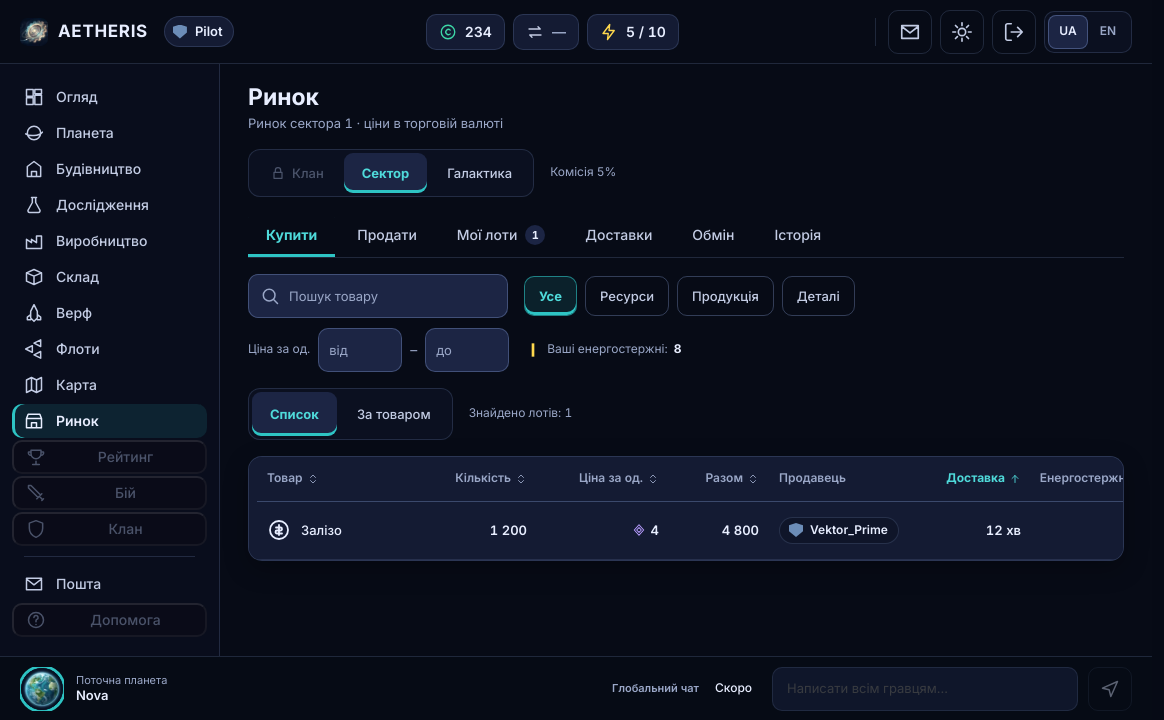
Scenario: the tab Sell › shows the range from the server and the counter of the lots, and lists the lot
Click the tab "Продати".
click(387, 235)  # box 339,213 -> 435,257
(page scrolled)
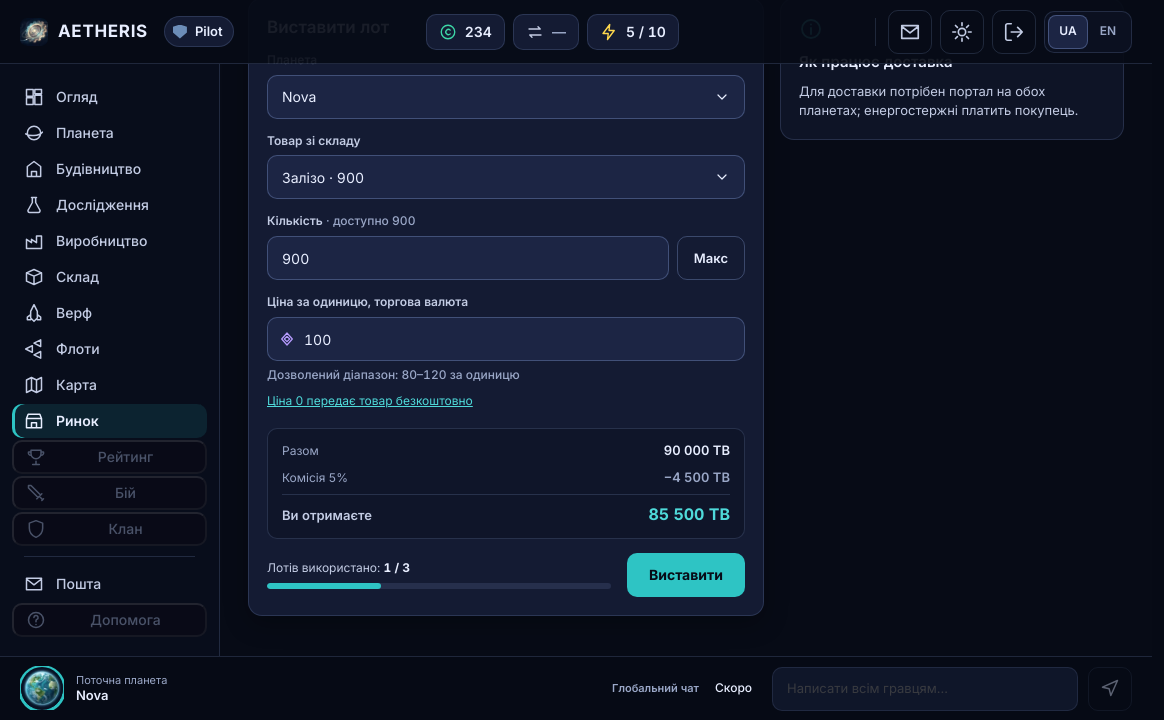
Expected: the text "Дозволений діапазон: 80–120 за одиницю" is shown, 267,367 -> 520,382
Expected: the text "1 / 3" is shown, 383,560 -> 410,575
Expected: the field labelled "Ціна за одиницю, торгова валюта" holds "100", 267,317 -> 745,361
Click the button "Виставити".
click(686, 575)  # box 627,553 -> 745,597
(page scrolled)
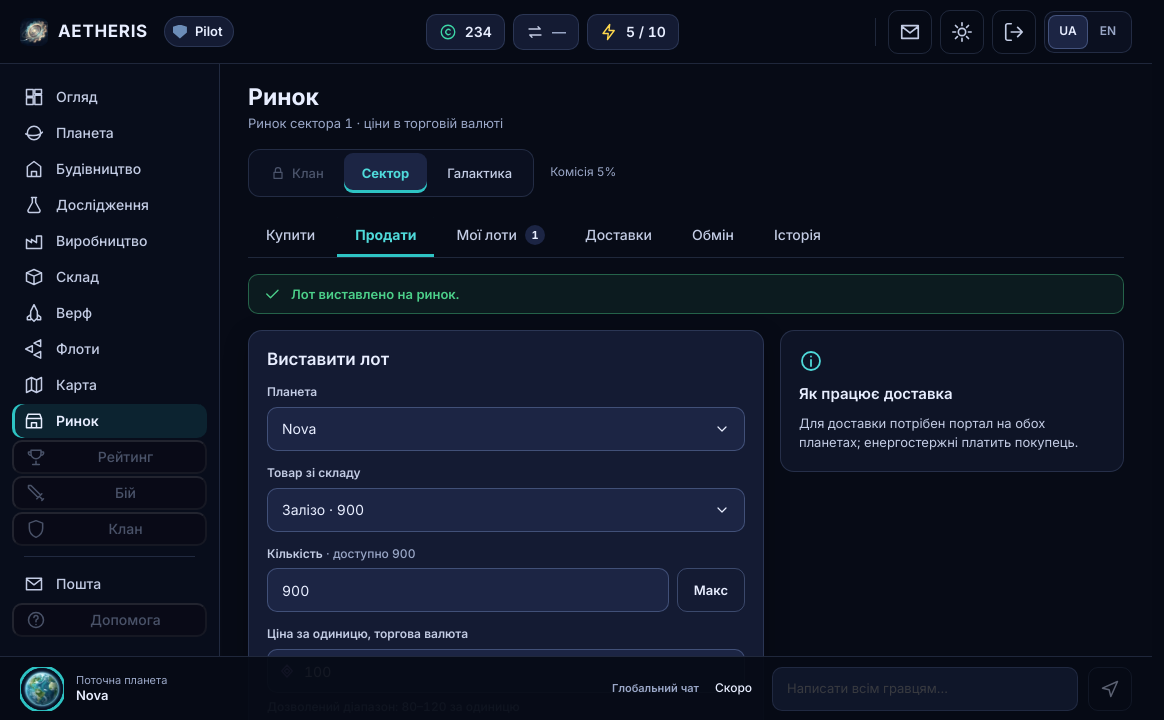
Expected: the text "Лот виставлено на ринок." is shown, 291,286 -> 459,302
